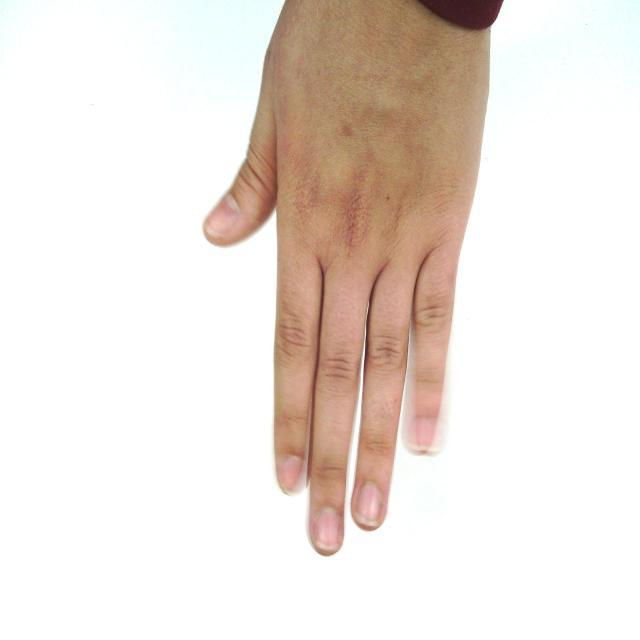Fingernail: (206, 195, 238, 235), (357, 482, 382, 524), (315, 508, 341, 548), (280, 457, 302, 494), (416, 417, 435, 450)
